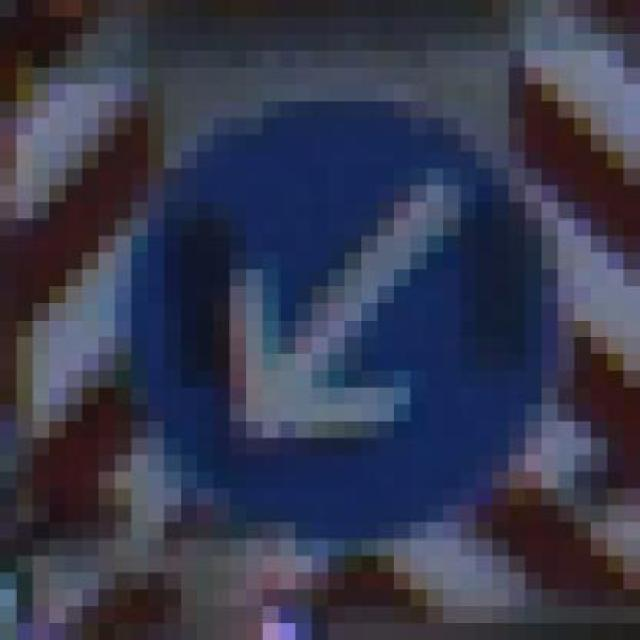Keep-Left: (98, 67, 574, 556)
